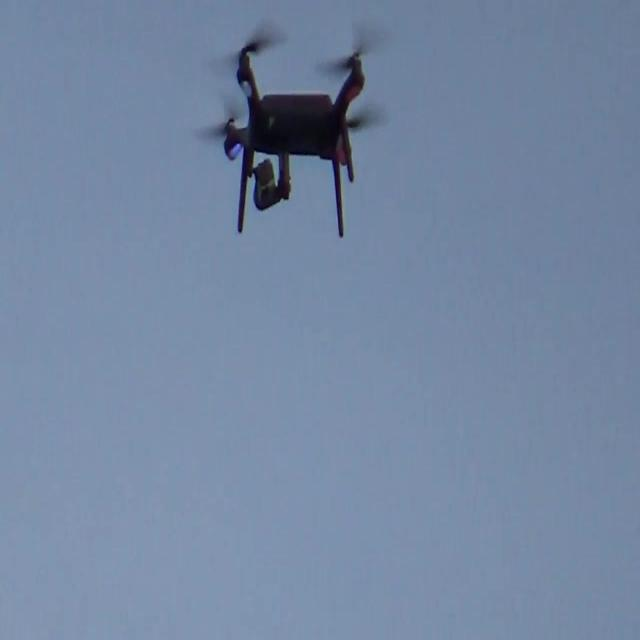UAV: (195, 15, 387, 239)
